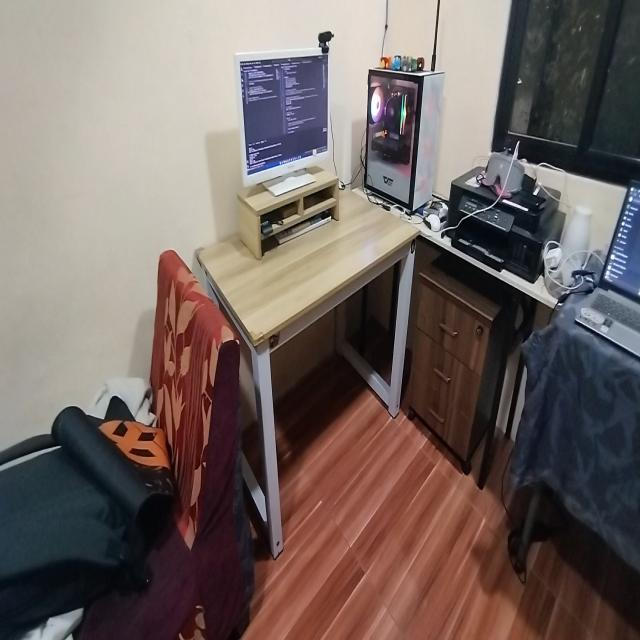table: (217, 172, 414, 542)
